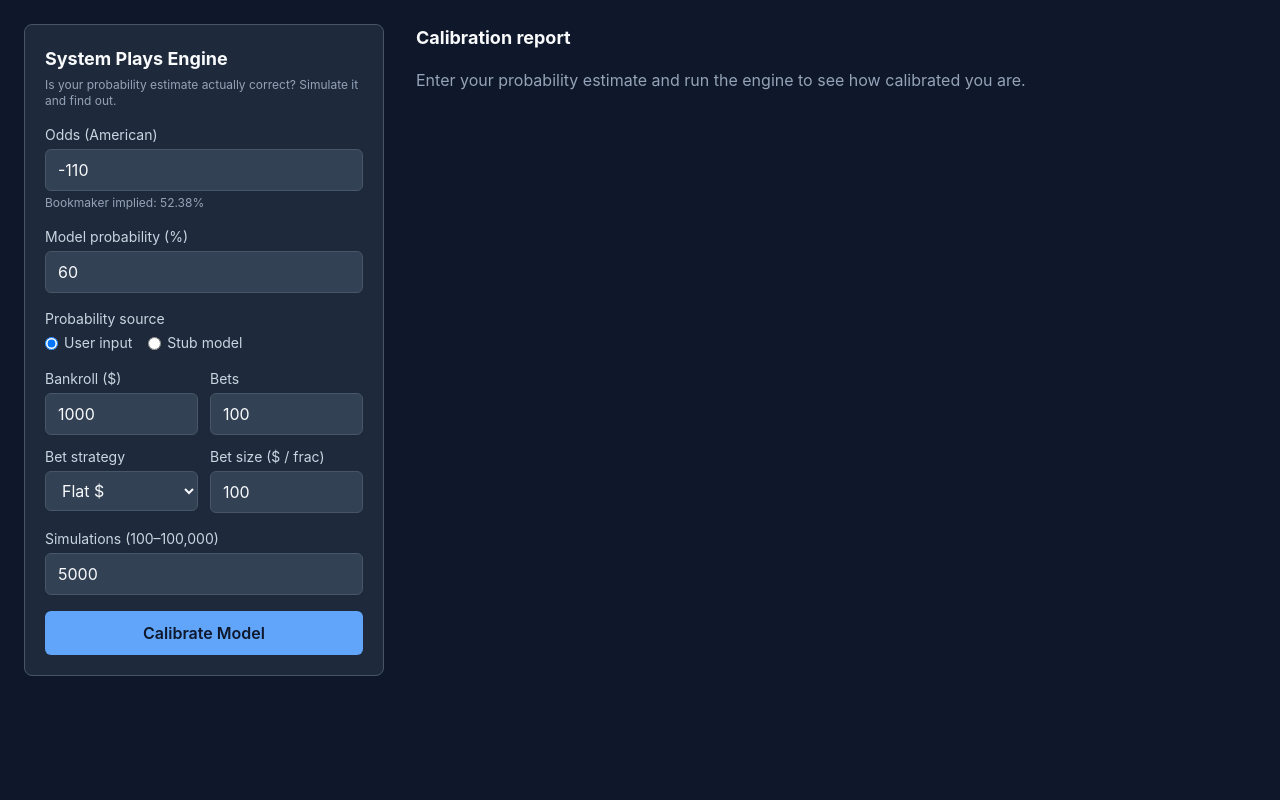
Test: SystemPlays page › omits win_probability when stub source is selected
Click the radio button labelled "Stub model" at (155, 343), box [148,336,161,350]
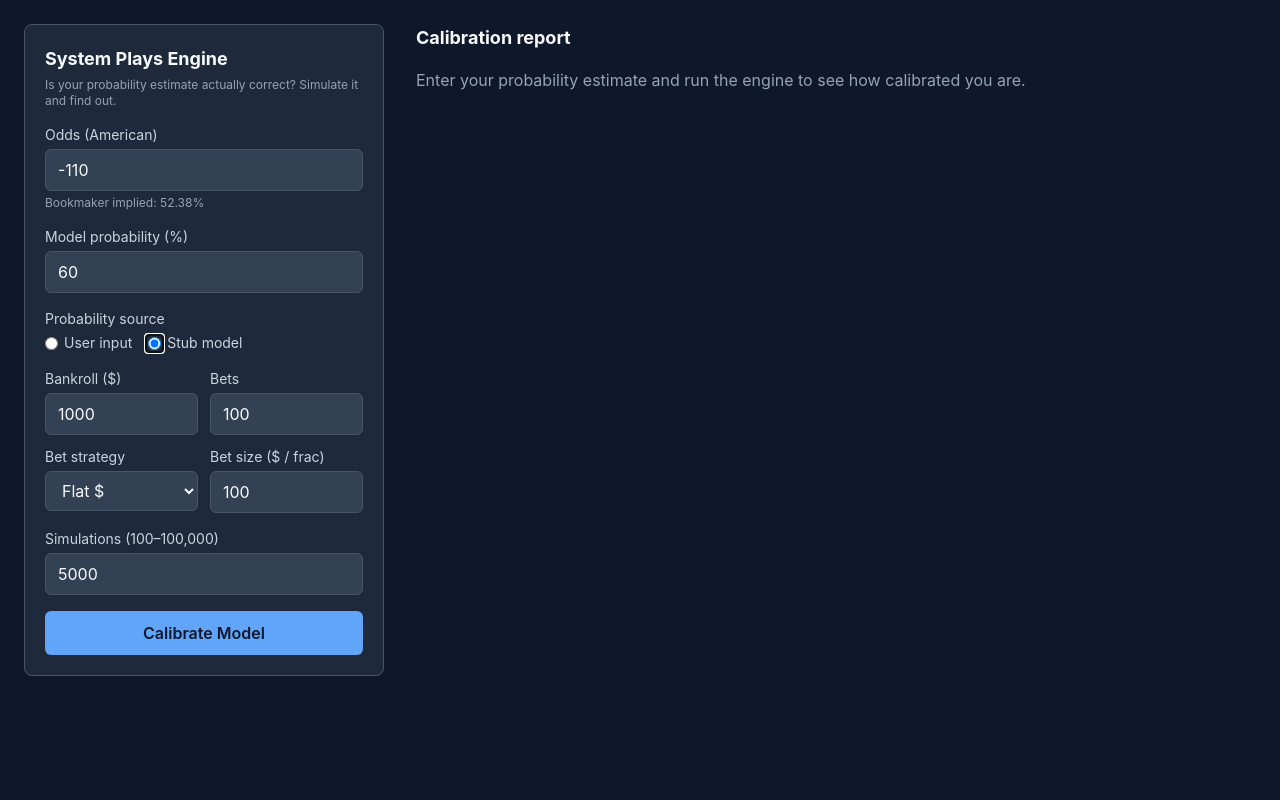
Click the button "Calibrate Model" at (204, 633), box [45,611,363,655]
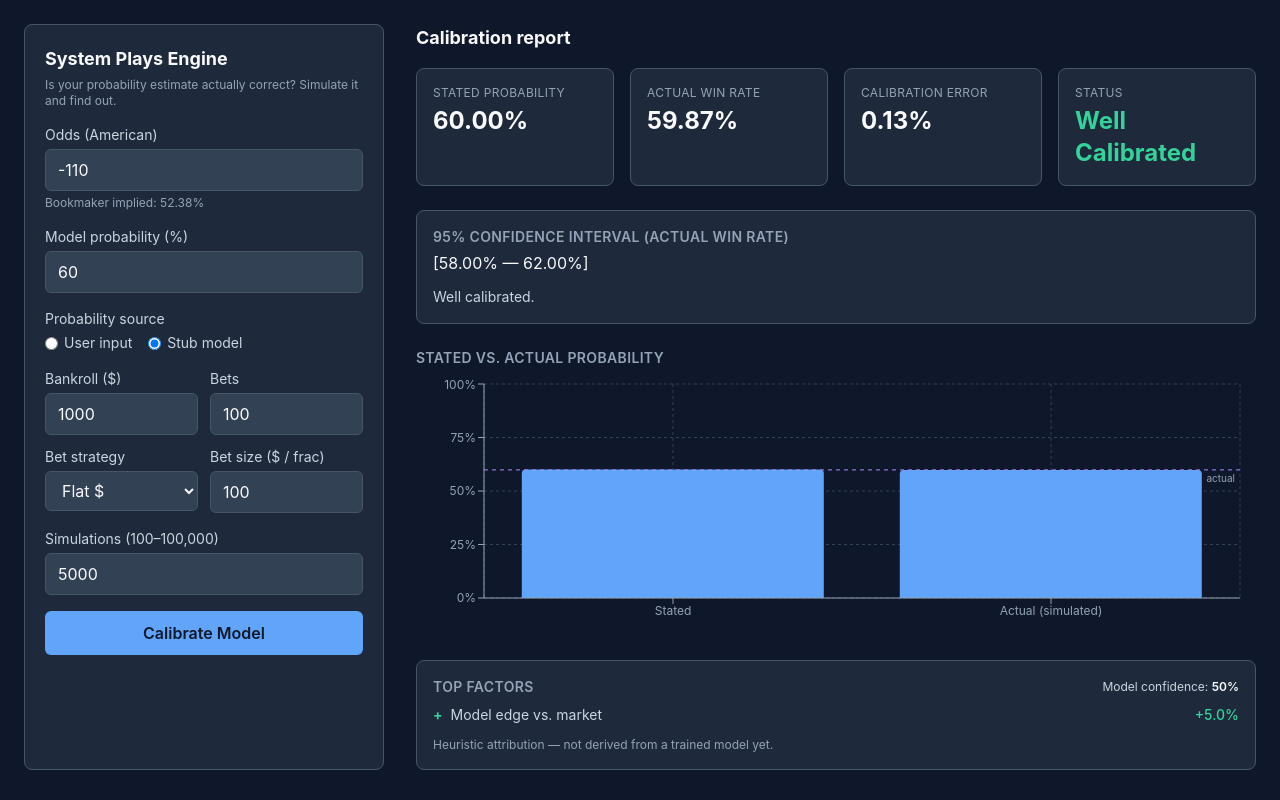
Expected: the element with test id "explainability-panel" is shown, [416,660,1256,770]
